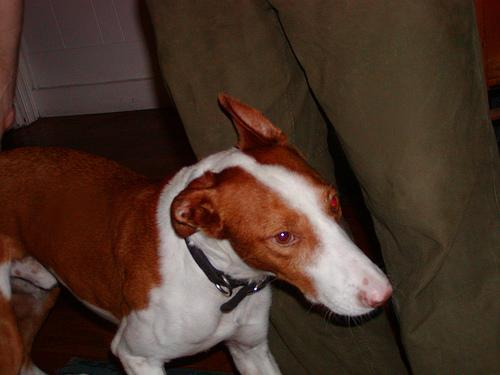Ibizan_hound: (2, 92, 394, 374)
